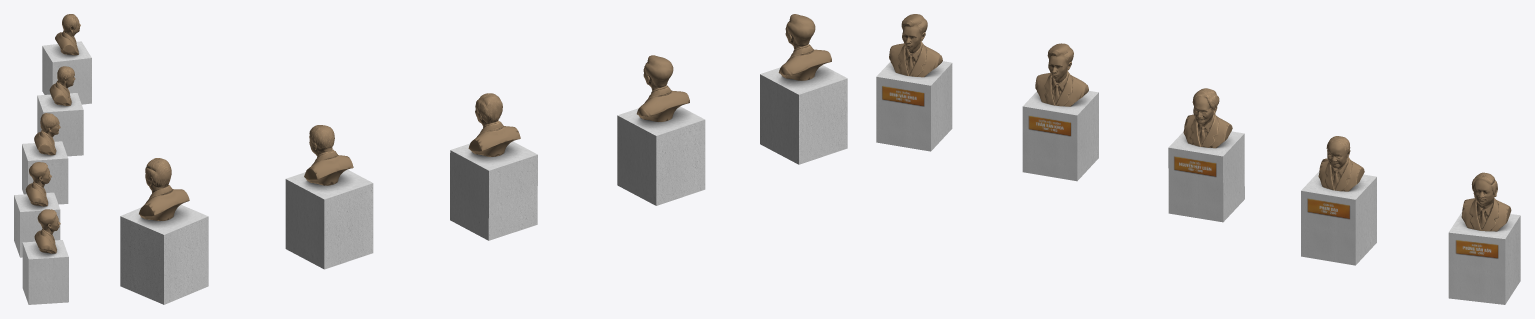
Rendered from buctuong.fbx.
The picture shows the model from 3 angles, left to right: view 1: azimuth 30°, elevation 25°; view 2: azimuth 150°, elevation 25°; view 3: azimuth 270°, elevation 25°; orthographic projection. The views are drawn at different scales.
Parts seen in each view (by area): view 1: buc6, TuongbacKhoa0, TuongbacKhoa, TuongBac_Luan, TuongBac_Van, TuongBac_PhamDao; view 2: buc6, TuongbacKhoa, TuongbacKhoa0, TuongBac_Luan, TuongBac_Van, TuongBac_PhamDao; view 3: buc6, TuongbacKhoa, TuongbacKhoa0, TuongBac_Van, TuongBac_Luan, TuongBac_PhamDao.
Part boxes in pixels (x1,y1,x2,y2): buc6: (14, 41, 91, 304); TuongbacKhoa0: (34, 209, 60, 253); TuongbacKhoa: (25, 162, 51, 206); TuongBac_Luan: (34, 113, 60, 155); TuongBac_Van: (55, 14, 80, 55); TuongBac_PhamDao: (49, 66, 75, 105); buc6: (120, 65, 847, 304); TuongbacKhoa: (636, 55, 689, 121); TuongbacKhoa0: (778, 14, 831, 80); TuongBac_Luan: (468, 93, 520, 156); TuongBac_Van: (139, 158, 189, 220); TuongBac_PhamDao: (304, 125, 353, 185); buc6: (876, 61, 1520, 304); TuongbacKhoa: (1035, 43, 1088, 106); TuongbacKhoa0: (889, 14, 942, 77); TuongBac_Van: (1461, 172, 1511, 231); TuongBac_Luan: (1183, 88, 1232, 148); TuongBac_PhamDao: (1318, 136, 1364, 191).
Size of the model in its own units: 684 by 209 by 1005.
Materials: 5 (5 with a texture image).
